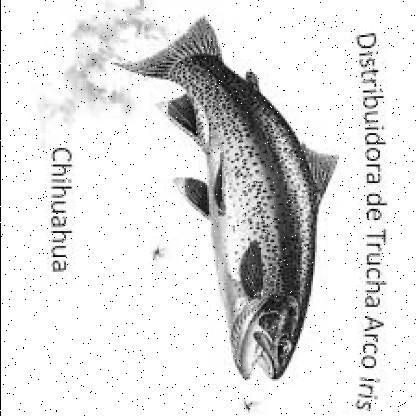fish: (114, 13, 343, 380)
